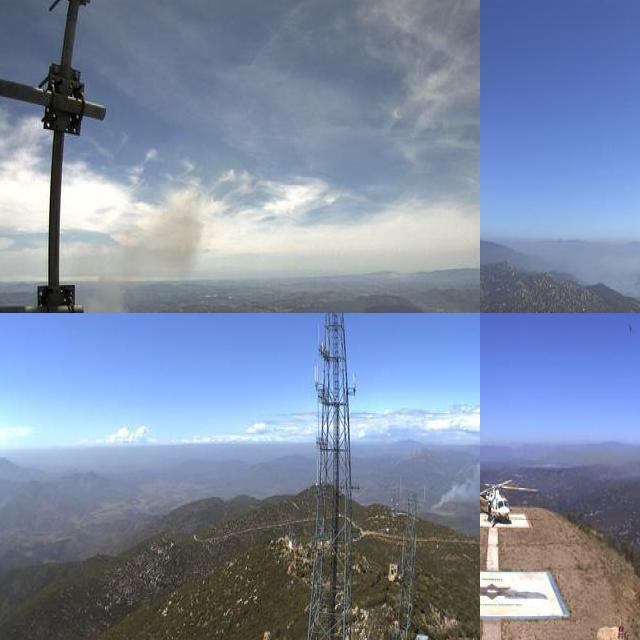smoke: (80, 177, 205, 313), (425, 457, 480, 511)
